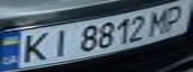1: (112, 16, 136, 45)
2: (127, 11, 151, 42)
8: (75, 21, 100, 52), (97, 19, 118, 49)
I: (45, 26, 75, 57)
K: (12, 29, 57, 64)
M: (145, 6, 175, 36)
P: (157, 2, 193, 34)
